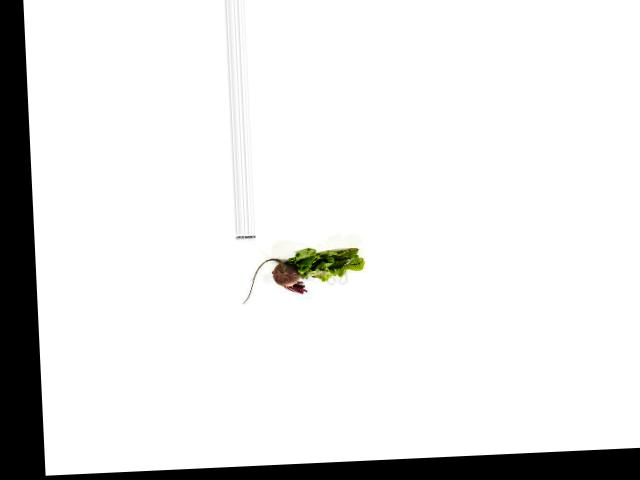beet: (239, 256, 308, 304)
